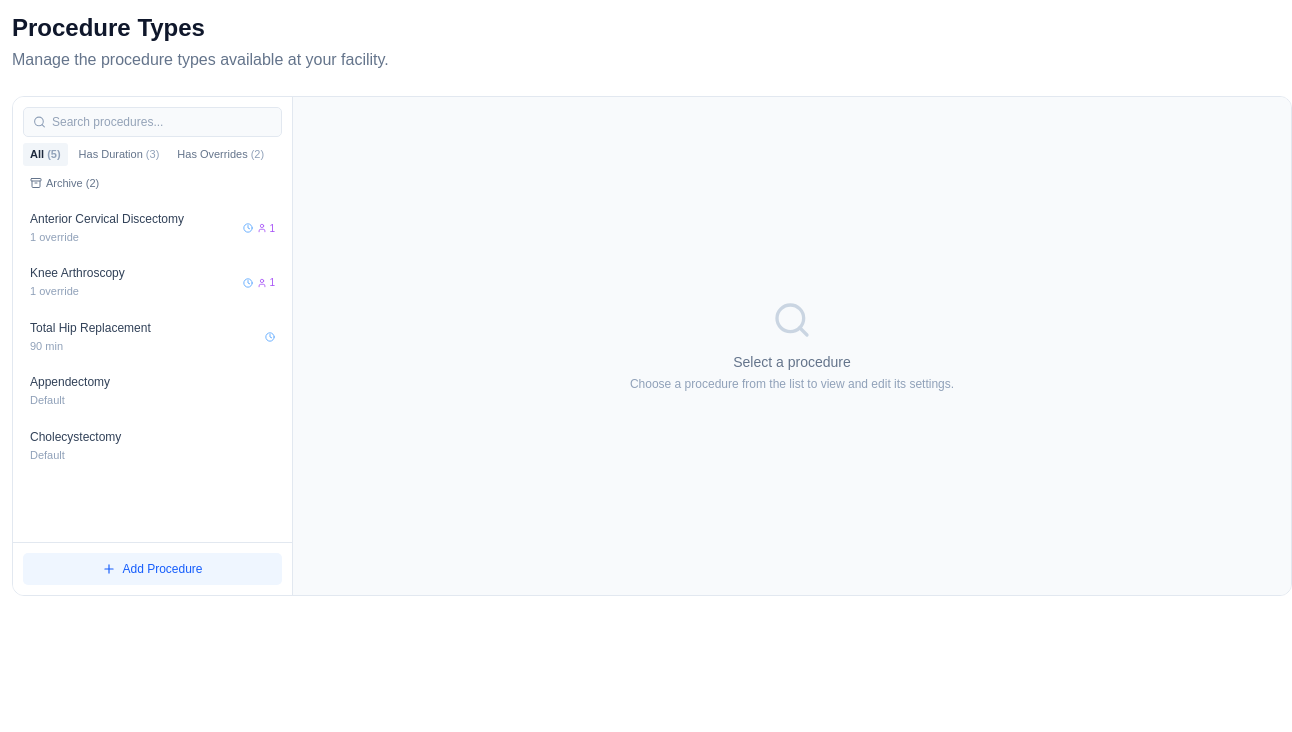
Test: ProceduresSettingsPage › [COUNT-LIST PARITY] Has Overrides tab count = 2, and only 2 procedures shown
Click the button "Has Overrides (2)": click(221, 154) x1=170 y1=143 x2=271 y2=166
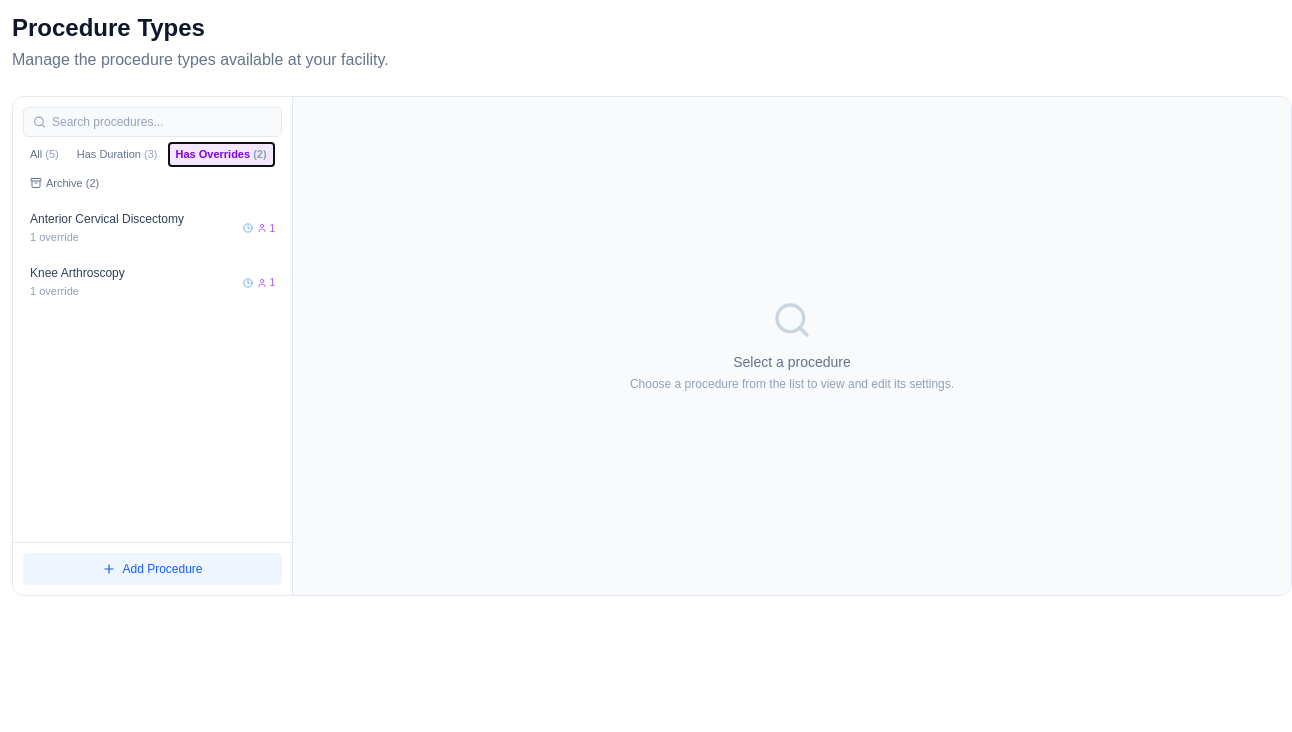
Expected: the text "Total Hip Replacement" is gone
Expected: the text "Appendectomy" is gone
Expected: the text "Cholecystectomy" is gone
